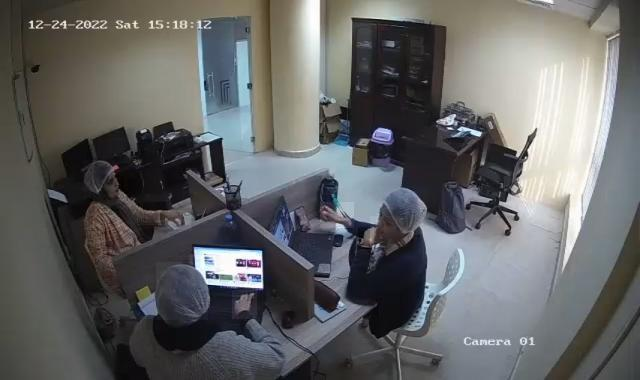gloves: (156, 262, 208, 320), (378, 186, 428, 235), (83, 160, 115, 192)
no_apron: (320, 203, 354, 228), (233, 291, 258, 320), (158, 210, 191, 230), (358, 228, 382, 250)
no_hairnet: (370, 216, 407, 247), (101, 176, 124, 200)
